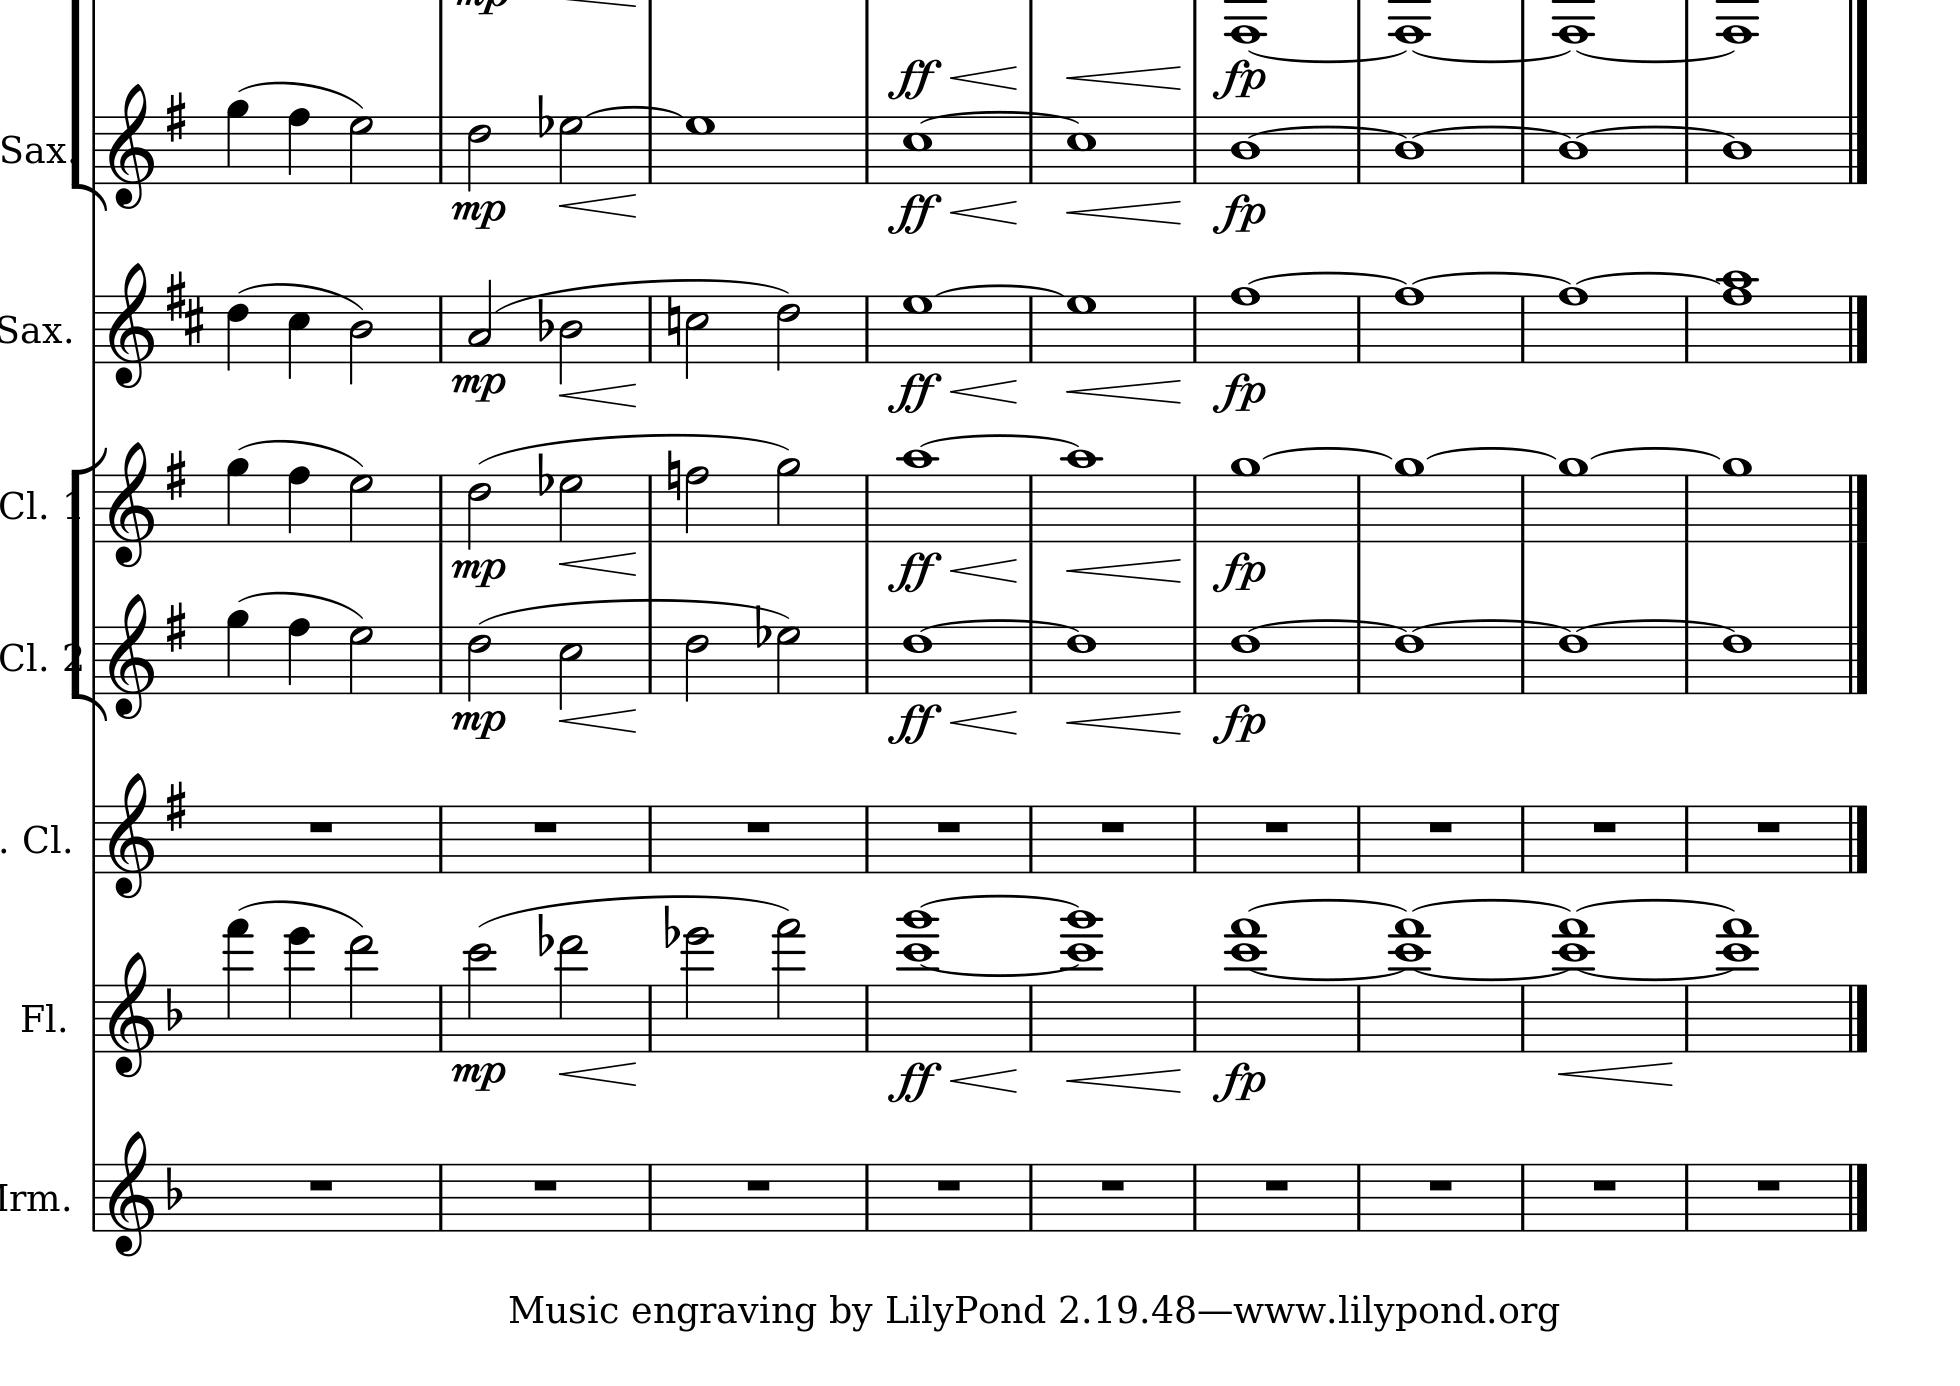1_10: (1062, 448, 1102, 546), (898, 448, 937, 541)
1_12_15: (1549, 915, 1597, 1054), (1224, 918, 1272, 1056), (1716, 916, 1761, 1054), (1389, 913, 1431, 1054)
1_12_16: (892, 907, 943, 1054), (1057, 907, 1105, 1054)
1_4: (1393, 114, 1425, 186), (1722, 114, 1753, 186), (1558, 115, 1590, 186), (1230, 112, 1260, 184)
1_5: (1066, 114, 1098, 186), (901, 115, 933, 184)
1_6: (1065, 625, 1099, 696), (901, 624, 934, 694), (1230, 624, 1263, 694), (1393, 624, 1426, 694), (1722, 624, 1755, 694), (1557, 625, 1590, 694)
1_7: (1065, 292, 1099, 366), (901, 292, 934, 364), (684, 114, 715, 187)
1_8: (1392, 285, 1428, 366), (1228, 285, 1263, 364), (1557, 285, 1591, 364)
1_9: (1392, 457, 1428, 546), (1719, 456, 1755, 544), (1227, 456, 1263, 543), (1557, 456, 1591, 544)
2_12: (465, 940, 495, 1053)
2_13: (346, 933, 376, 1056), (556, 934, 586, 1054)
2_3: (466, 277, 493, 363)
2_4: (348, 292, 375, 385), (558, 295, 583, 385)
2_5: (556, 625, 585, 709), (684, 294, 711, 381)
2_6: (682, 622, 711, 703), (775, 292, 802, 373), (465, 114, 493, 190), (466, 471, 493, 549), (466, 625, 493, 702)
2_7: (556, 114, 586, 186), (346, 112, 375, 186), (346, 472, 375, 544), (556, 472, 585, 544), (774, 624, 802, 696), (346, 624, 375, 694)
2_8: (684, 463, 711, 546)
2_9: (772, 456, 802, 544)
4_14: (682, 924, 714, 1054), (283, 925, 313, 1054)
4_15: (223, 916, 252, 1054)
4_5: (286, 292, 312, 379)
4_6: (225, 292, 250, 373)
4_8: (286, 463, 312, 544), (286, 106, 312, 186), (286, 616, 312, 696)
4_9: (223, 456, 250, 544), (223, 607, 250, 696), (225, 97, 250, 186)
Bracke: (72, 454, 115, 708)
Cl: (19, 817, 63, 861), (1, 634, 39, 676), (1, 484, 39, 525)
Crescendo_hairpin: (1063, 1066, 1185, 1093), (1063, 556, 1182, 583), (1555, 1060, 1677, 1086), (1065, 379, 1186, 403), (1063, 711, 1185, 735), (1063, 64, 1183, 88), (1065, 199, 1183, 223), (559, 190, 637, 219), (559, 706, 639, 733), (558, 552, 637, 577), (558, 1060, 637, 1086), (561, 381, 637, 406), (949, 556, 1018, 583), (949, 1066, 1018, 1093), (949, 709, 1020, 735), (949, 199, 1020, 223), (951, 64, 1020, 88), (952, 379, 1020, 403)
D_S: (165, 267, 205, 346)
Final_barline: (1845, 982, 1872, 1051), (1843, 472, 1870, 540), (1842, 625, 1869, 693), (1845, 294, 1870, 363), (1843, 115, 1869, 183), (1845, 804, 1870, 871), (1845, 1162, 1870, 1230)
Fl: (16, 996, 58, 1038)
Flat: (163, 1164, 184, 1210), (163, 985, 183, 1033), (535, 295, 553, 343), (535, 93, 553, 139), (535, 450, 553, 496), (661, 901, 679, 948), (753, 603, 769, 649), (537, 910, 553, 955)
Gclef: (106, 81, 157, 211), (106, 261, 157, 390), (106, 439, 157, 568), (106, 592, 157, 721), (106, 769, 156, 900), (106, 949, 156, 1078), (106, 1129, 154, 1257)
Natural: (664, 447, 682, 504), (664, 294, 682, 346)
Rests1: (1752, 817, 1786, 838), (1752, 1176, 1786, 1197), (1588, 817, 1623, 837), (1590, 1176, 1621, 1197), (1096, 817, 1129, 837), (1425, 817, 1458, 837), (1425, 1176, 1458, 1195), (933, 1176, 964, 1195), (1261, 1176, 1293, 1195), (304, 817, 337, 835), (742, 817, 775, 835), (931, 817, 964, 835), (1260, 817, 1293, 835), (304, 1174, 337, 1192), (529, 817, 561, 835), (529, 1177, 561, 1195), (1096, 1177, 1128, 1195), (742, 1177, 774, 1194)
Sax: (1, 129, 67, 169), (1, 310, 64, 351)
Sharp: (163, 778, 189, 832), (163, 598, 187, 654), (163, 448, 187, 502), (165, 88, 187, 142)
Single_barline: (642, 624, 661, 693), (1350, 115, 1369, 183), (432, 474, 451, 541), (432, 625, 451, 693), (640, 115, 660, 181), (858, 474, 877, 540), (432, 115, 450, 184), (858, 294, 876, 363), (1515, 624, 1533, 693), (1515, 115, 1533, 183), (1678, 115, 1696, 183), (1023, 115, 1041, 183), (1350, 294, 1368, 361), (1350, 474, 1368, 541), (1023, 625, 1041, 693), (858, 115, 876, 181), (1023, 295, 1041, 361), (1677, 474, 1695, 540), (1350, 625, 1368, 691), (1350, 985, 1368, 1051), (1678, 295, 1696, 360), (1678, 627, 1696, 691), (87, 115, 103, 184), (87, 472, 103, 541), (859, 624, 876, 693), (87, 625, 103, 694), (87, 1162, 103, 1231), (432, 1162, 448, 1231), (1678, 1162, 1695, 1231), (1515, 294, 1531, 361), (1515, 474, 1531, 541), (1186, 625, 1203, 693), (87, 984, 103, 1051), (433, 984, 450, 1051), (642, 984, 658, 1051), (1351, 1162, 1368, 1230), (642, 295, 658, 361), (1186, 295, 1203, 361), (1515, 984, 1531, 1050), (1023, 985, 1039, 1051), (1678, 985, 1695, 1051), (642, 475, 658, 540), (1023, 475, 1039, 540), (1186, 475, 1203, 540), (859, 982, 874, 1051), (1515, 1162, 1530, 1231), (1188, 115, 1203, 183), (1351, 804, 1366, 871), (1515, 804, 1530, 871), (1680, 804, 1695, 871), (87, 805, 102, 873), (859, 805, 874, 873), (1188, 805, 1203, 873), (859, 1162, 874, 1230), (1023, 1162, 1038, 1230), (1188, 1162, 1203, 1230), (433, 295, 448, 361), (433, 805, 448, 871), (1023, 805, 1038, 871), (643, 805, 658, 871), (1188, 985, 1203, 1051), (643, 1164, 658, 1230), (87, 294, 100, 363)
Slur: (475, 895, 789, 930), (475, 432, 784, 465), (495, 277, 787, 310), (475, 597, 784, 625), (235, 898, 367, 930), (235, 79, 364, 109), (235, 438, 364, 468), (235, 589, 364, 619), (238, 280, 364, 310), (918, 106, 1077, 127), (1576, 895, 1734, 913), (1399, 123, 1569, 139), (924, 892, 1077, 910), (1408, 895, 1575, 912), (1575, 123, 1740, 139), (1410, 616, 1573, 633), (1246, 897, 1404, 913), (1573, 619, 1740, 634), (1258, 442, 1395, 460), (1248, 616, 1408, 631), (1414, 271, 1575, 286), (1245, 124, 1407, 138), (1575, 271, 1720, 286), (1581, 967, 1737, 981), (918, 964, 1083, 976), (1417, 970, 1581, 982), (1246, 271, 1408, 283), (1428, 445, 1554, 460), (1593, 445, 1719, 460), (936, 283, 1062, 295), (1246, 970, 1407, 979), (583, 105, 682, 117)
ff: (886, 190, 940, 237), (886, 702, 942, 747), (886, 370, 940, 414), (886, 1060, 942, 1102), (886, 550, 940, 592), (889, 55, 942, 97)
fp: (1210, 703, 1269, 747), (1209, 193, 1269, 235), (1210, 552, 1269, 594), (1212, 1062, 1266, 1105), (1212, 58, 1266, 100), (1212, 373, 1266, 414)
mp: (448, 1057, 508, 1096), (448, 196, 508, 232), (448, 553, 507, 589), (448, 370, 507, 405), (448, 706, 505, 741)
